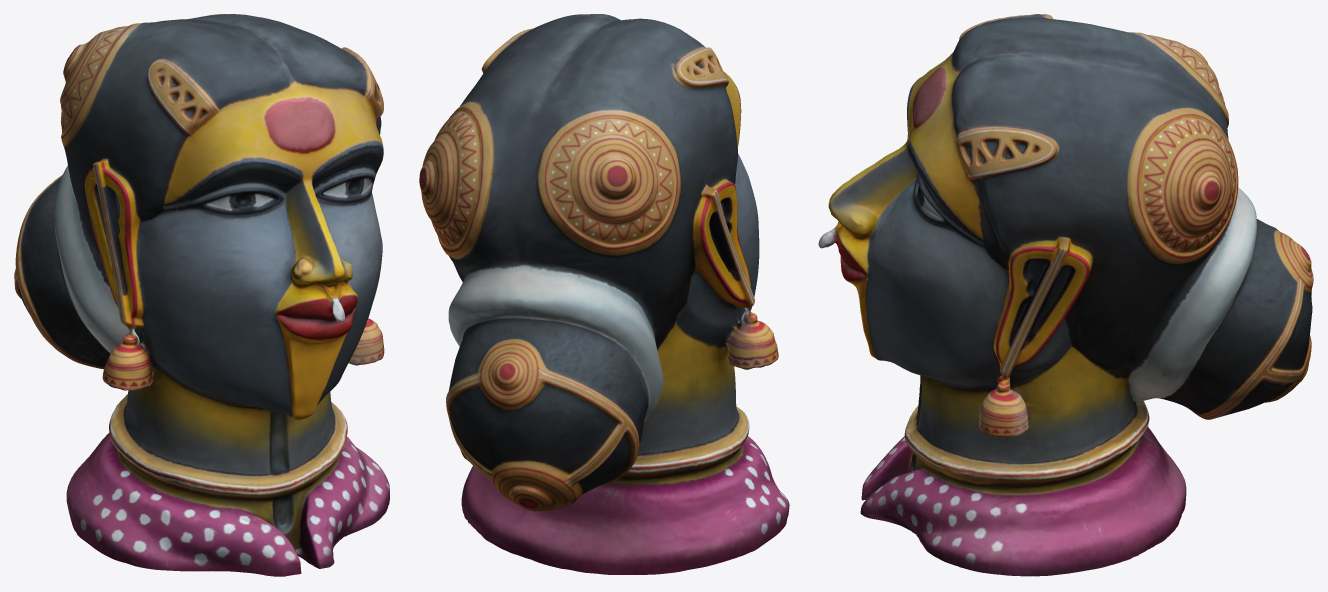
Rendered from thota-untitled-head-polka-dot.glb.
The picture shows the model from 3 angles, left to right: view 1: azimuth 30°, elevation 25°; view 2: azimuth 150°, elevation 25°; view 3: azimuth 270°, elevation 25°; orthographic projection.
Visible parts, largest first — view 1: Mesh; view 2: Mesh; view 3: Mesh.
Boxes of the visible parts, bbox=[...] form: Mesh: bbox=[14, 14, 389, 576]; Mesh: bbox=[419, 14, 789, 574]; Mesh: bbox=[818, 14, 1313, 576].
Bounding box in the file's own units: 0.3259 × 0.5 × 0.4746.
Materials: 1 (1 with a texture image).
